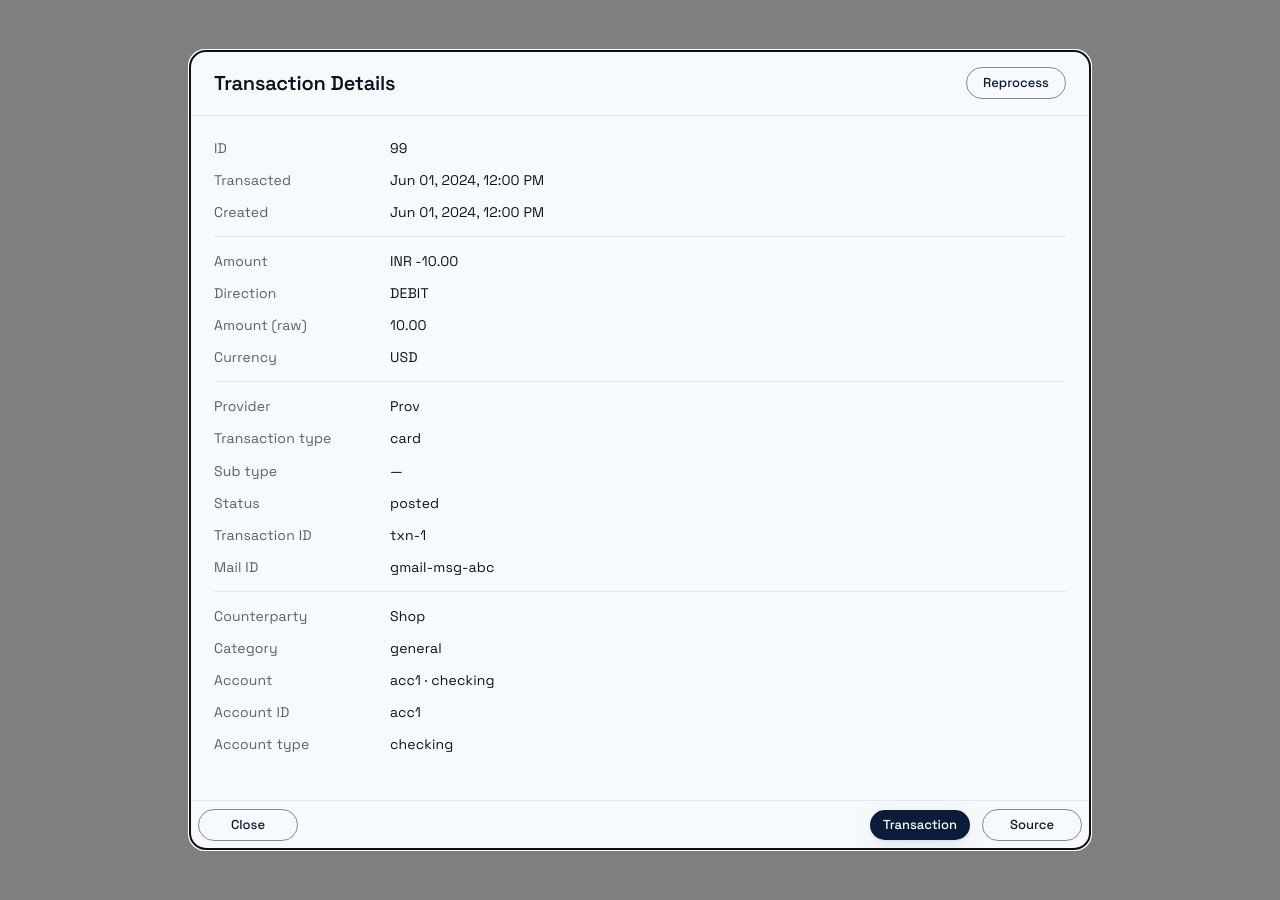
Test: TransactionDetailDialog › loads email tab and shows subject and body after fetch
The image size is (1280, 900).
Click the button "Source" at (1032, 825), box [982,809,1082,841]
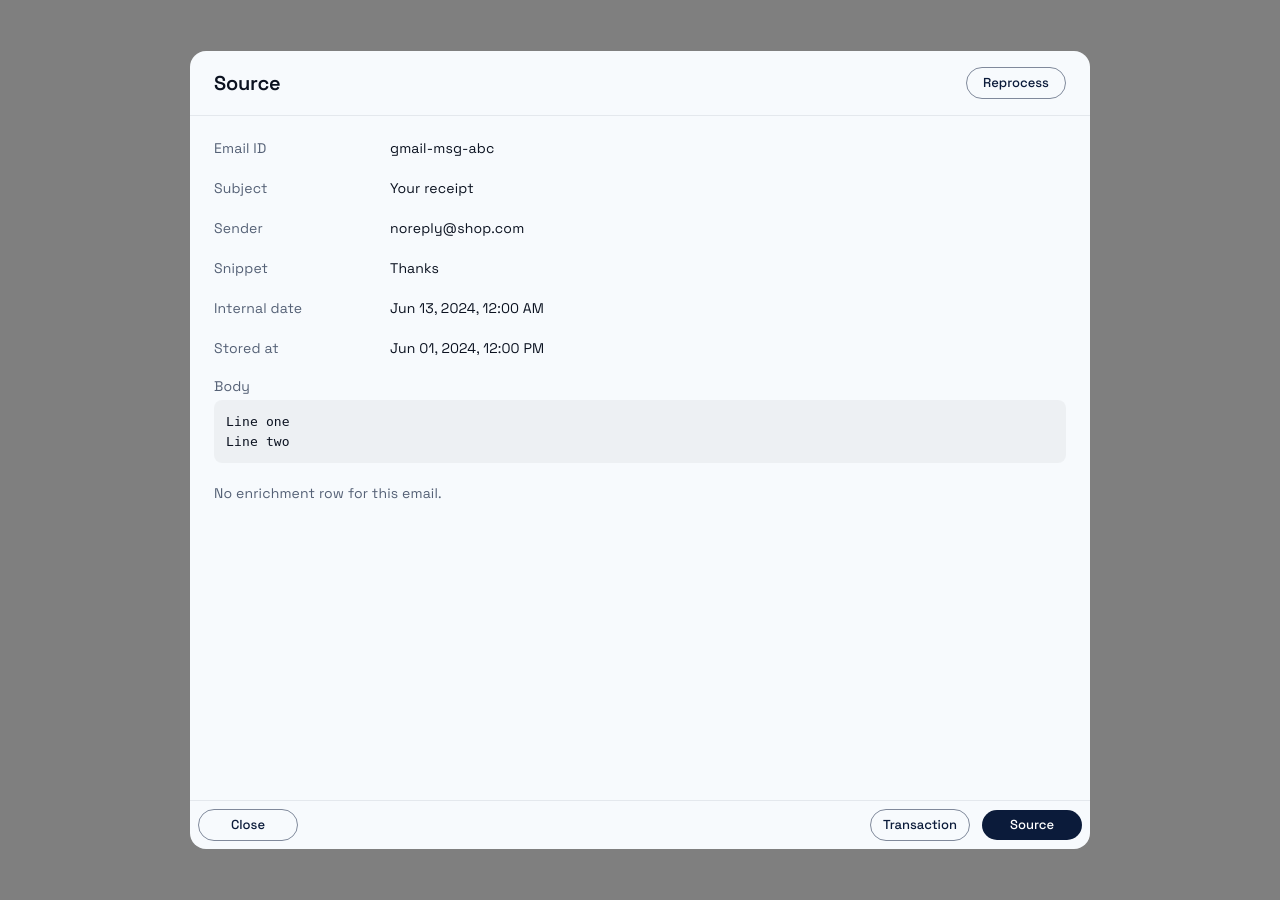
Now the text "Your receipt" is shown, box [390,178,474,198]
Now the heading "Source" is shown, box [214,70,280,96]
Now the text "Line one Line two" is shown, box [214,400,1066,464]
